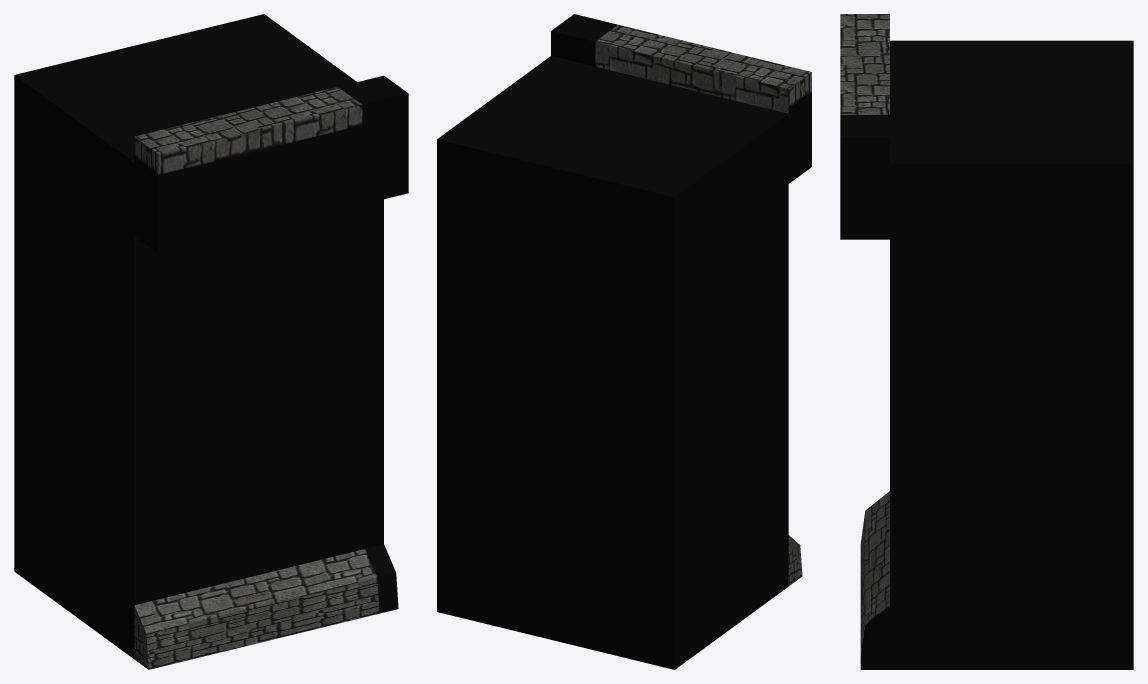
The model's file is Piece_Straight.FBX.
The picture shows the model from 3 angles, left to right: view 1: azimuth 30°, elevation 25°; view 2: azimuth 150°, elevation 25°; view 3: azimuth 270°, elevation 25°; orthographic projection. The views are drawn at different scales.
Parts seen in each view (by area): view 1: Piece_Straight001; view 2: Piece_Straight001; view 3: Piece_Straight001.
Boxes of the visible parts, <box> form: Piece_Straight001: <box>14,14,408,669</box>; Piece_Straight001: <box>437,14,811,669</box>; Piece_Straight001: <box>840,14,1133,669</box>.
Bounding box in the file's own units: 100 × 200 × 100.
